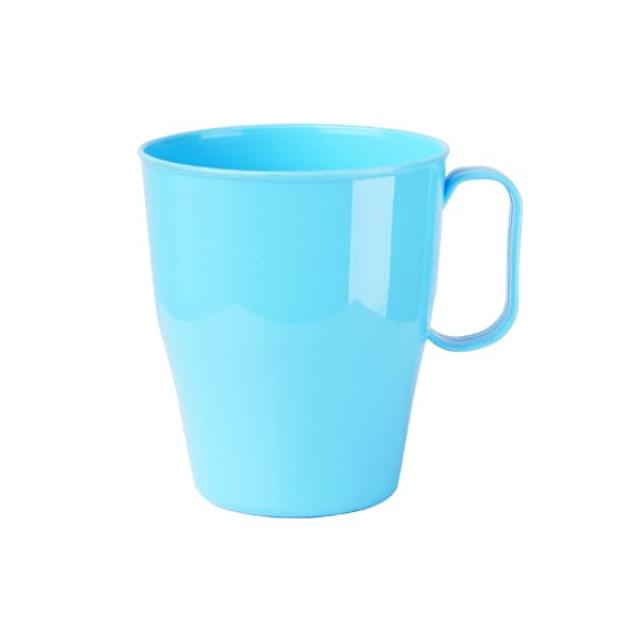Cangkir: (131, 117, 537, 534)
